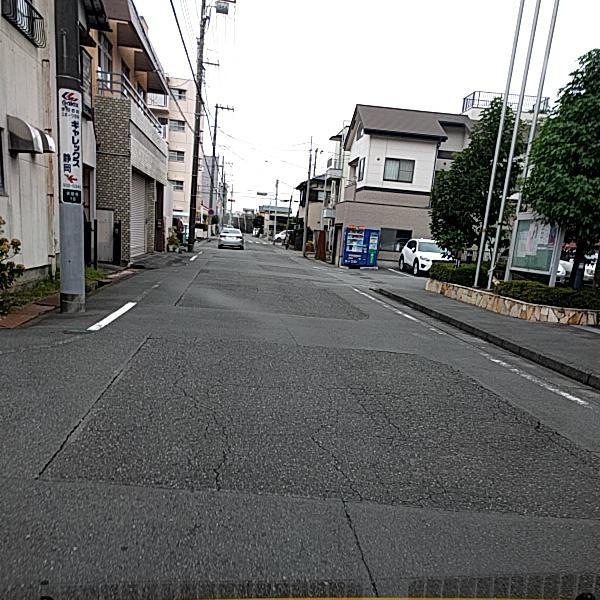D00: (160, 366, 237, 496), (296, 415, 365, 499), (533, 421, 596, 471)
D44: (113, 273, 172, 334)
